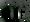person: (20, 10, 26, 20)
